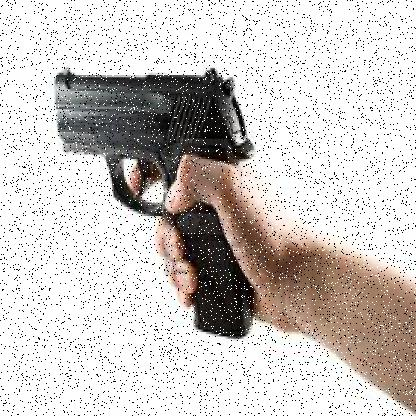pistol: (48, 64, 258, 339)
